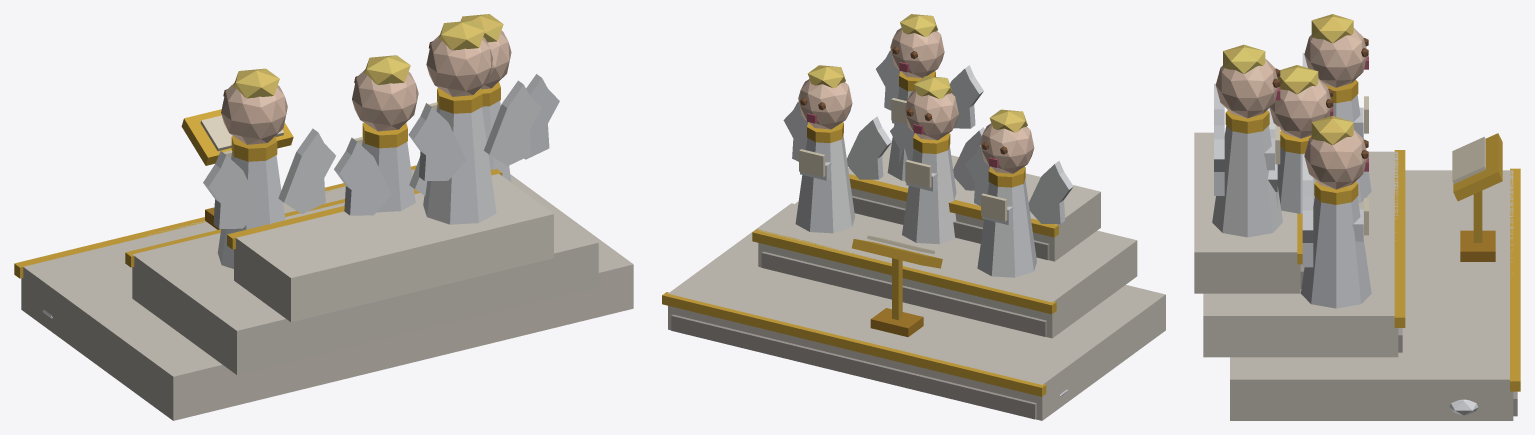
File: Decor_CloudTemple_ChoirRiser.fbx
3 views of the same model, side by side, from view 1: azimuth 30°, elevation 25°; view 2: azimuth 150°, elevation 25°; view 3: azimuth 270°, elevation 25° (orthographic). The views are drawn at different scales.
Parts seen in each view (by area): view 1: ChoirRiser_Body; view 2: ChoirRiser_Body; view 3: ChoirRiser_Body.
Boxes of the visible parts, x1=… form: ChoirRiser_Body: x1=14, y1=14, x2=633, y2=420; ChoirRiser_Body: x1=662, y1=14, x2=1165, y2=420; ChoirRiser_Body: x1=1194, y1=14, x2=1520, y2=420.
Size of the model in its own units: 14 by 9.1 by 9.
